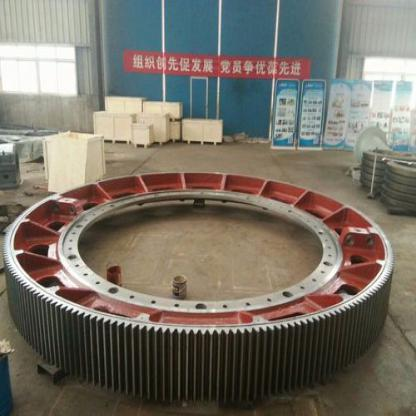FOD: (0, 161, 397, 409)
